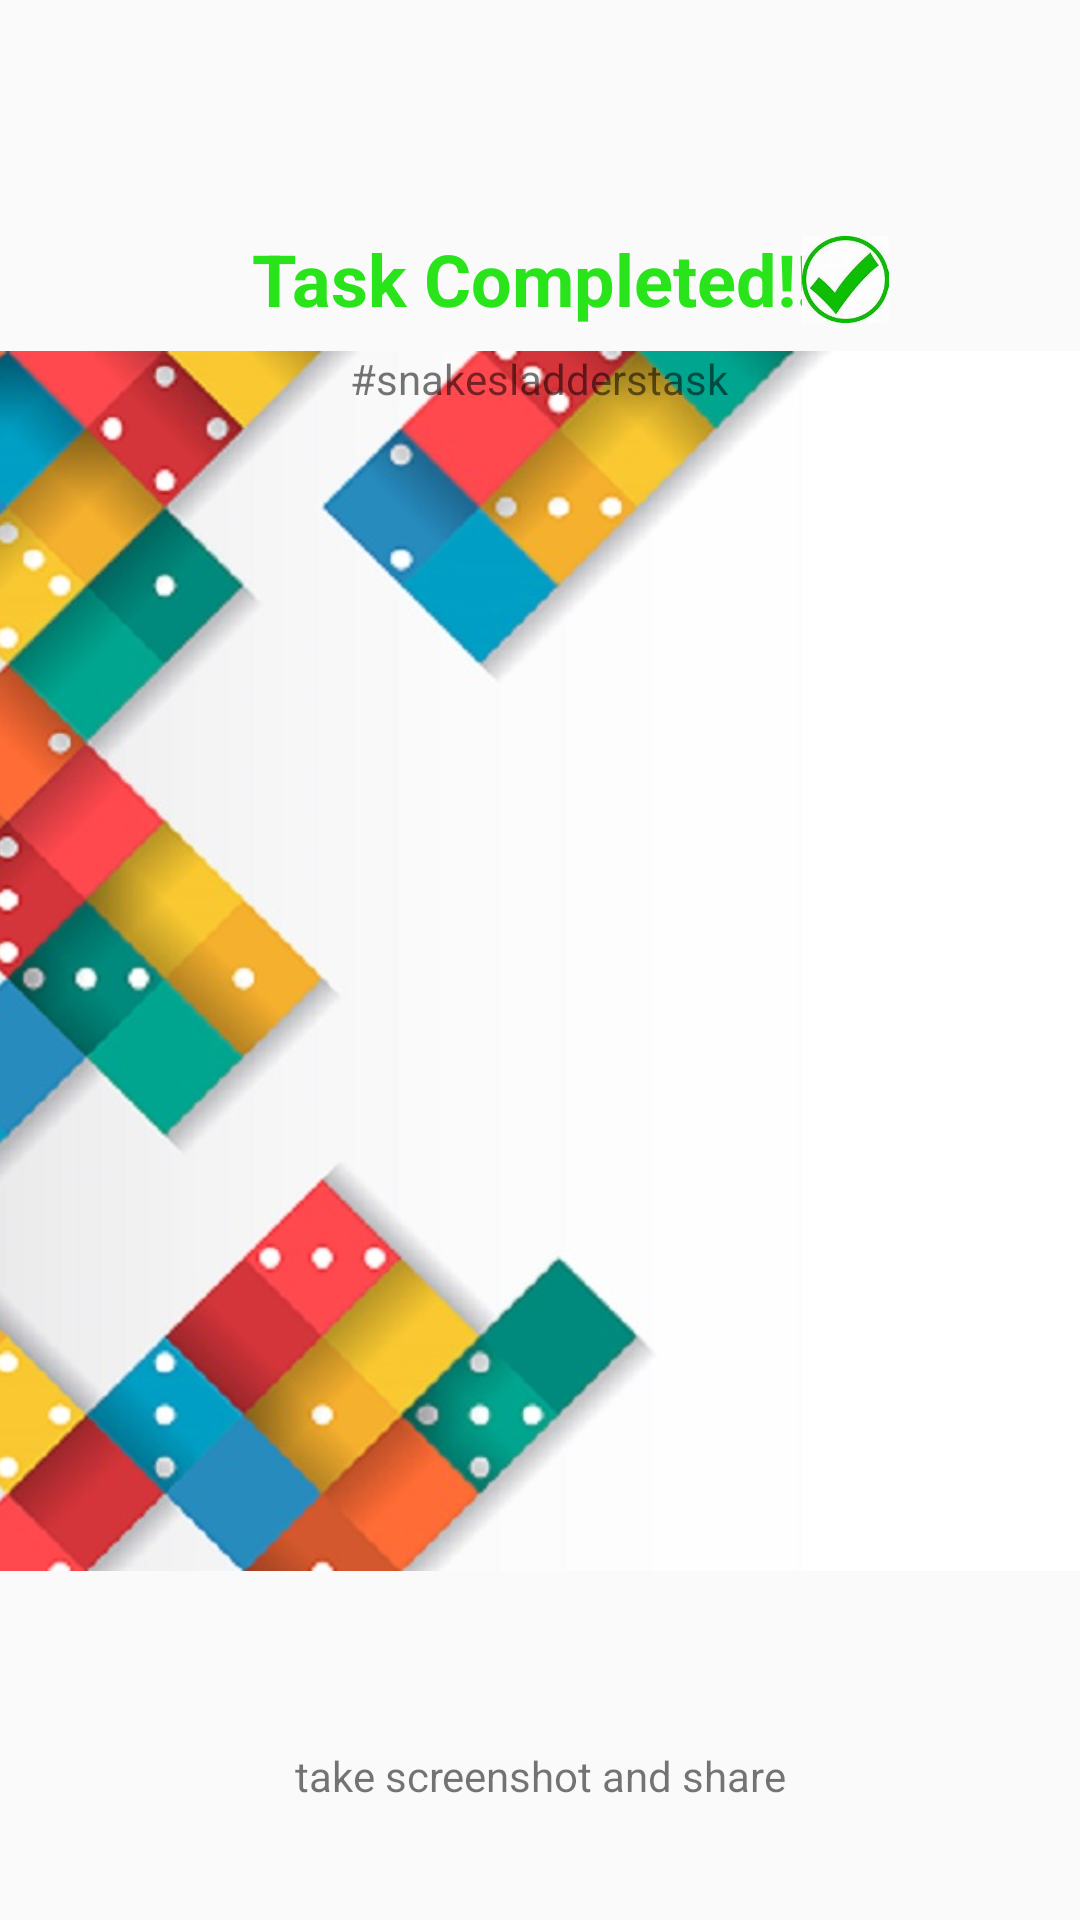

Screen size 1080w x 1920h. Icon name, then its box in pixels as {"x1": x1, "y1": y1, "x2": x2, "y2": y2}:
greentick: {"x1": 800, "y1": 236, "x2": 889, "y2": 323}
